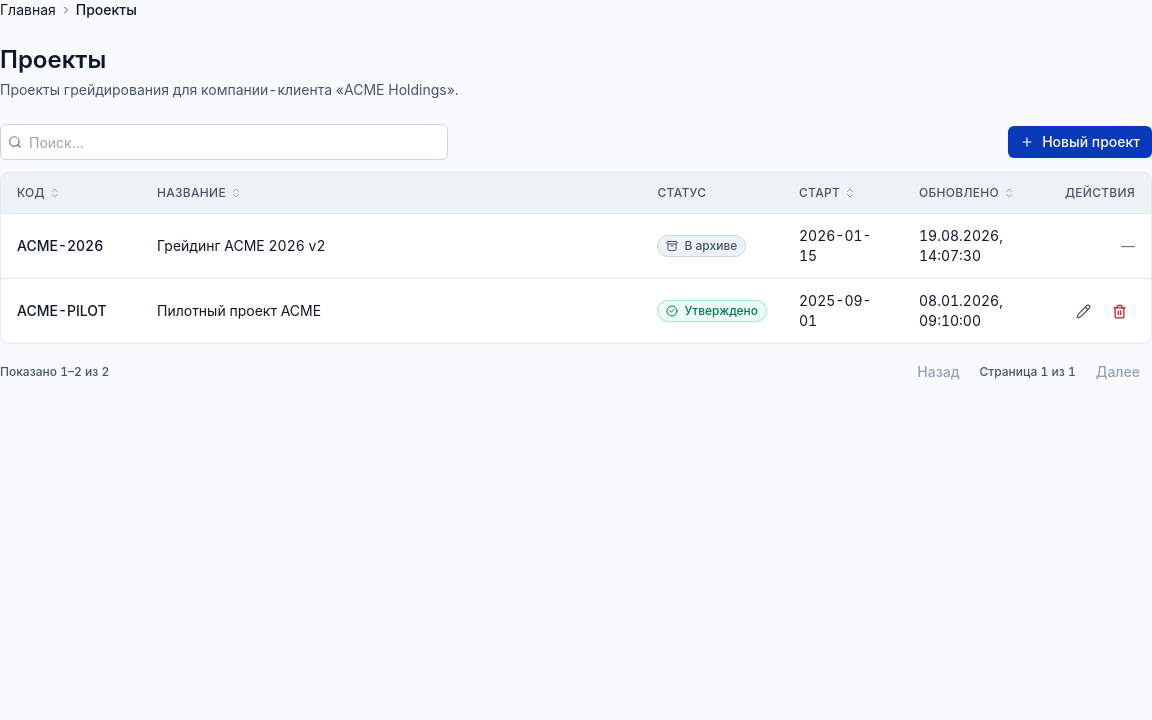
Scenario: <ProjectListPage /> CRUD › surfaces PROJECT_CODE_TAKEN when creating with a duplicate code
Check: the text "ACME-2026" is shown, box [17, 237, 103, 254]
Click the button with test id "new-project-button".
click(1080, 142)  # box [1008, 126, 1151, 158]
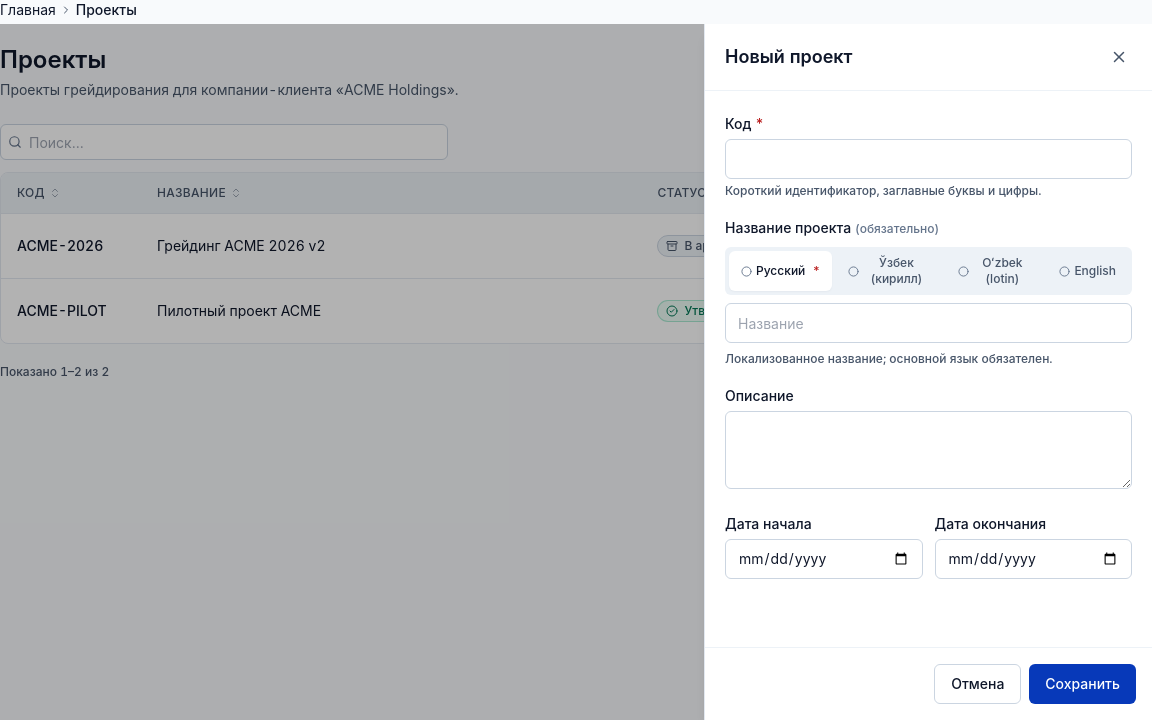
Check: the field with test id "project-code" is enabled
Type "ACME-PILOT" into the field with test id "project-code".
click(928, 159); type("ACME-PILOT")  # box [725, 139, 1132, 179]
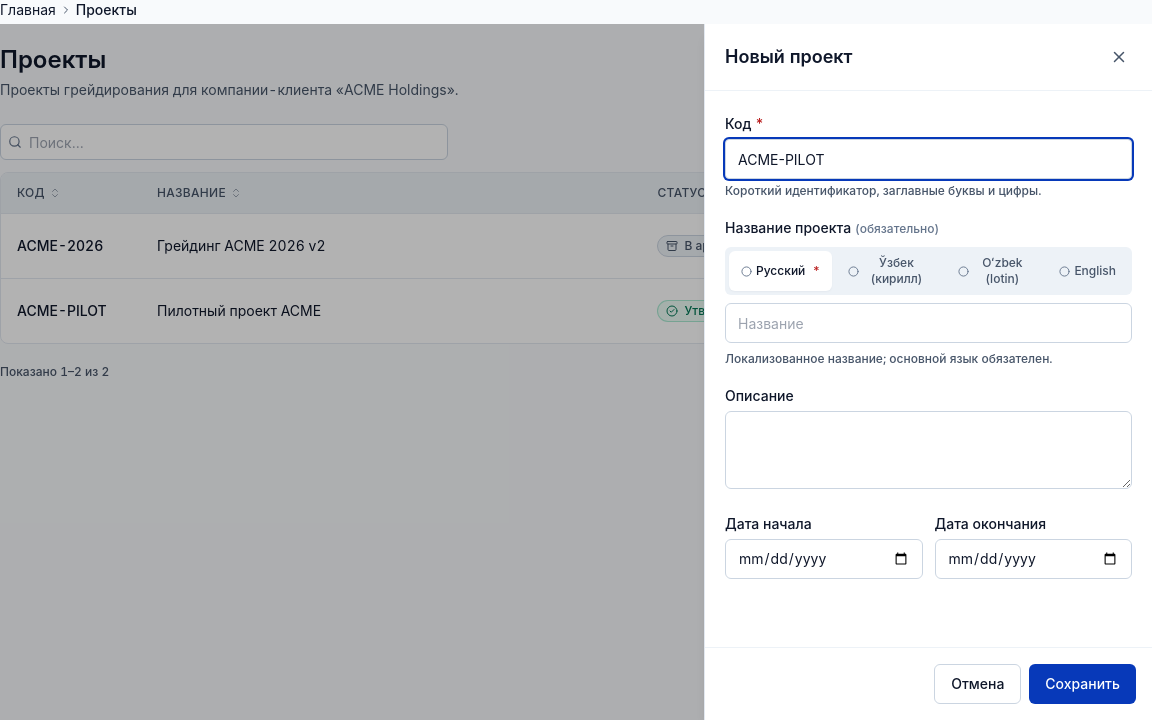
// Fill the required primary name (ru-RU tab is active first).
Type "Дубликат" into the field with test id "locale-input-ru-RU".
click(928, 323); type("Дубликат")  # box [725, 303, 1132, 343]
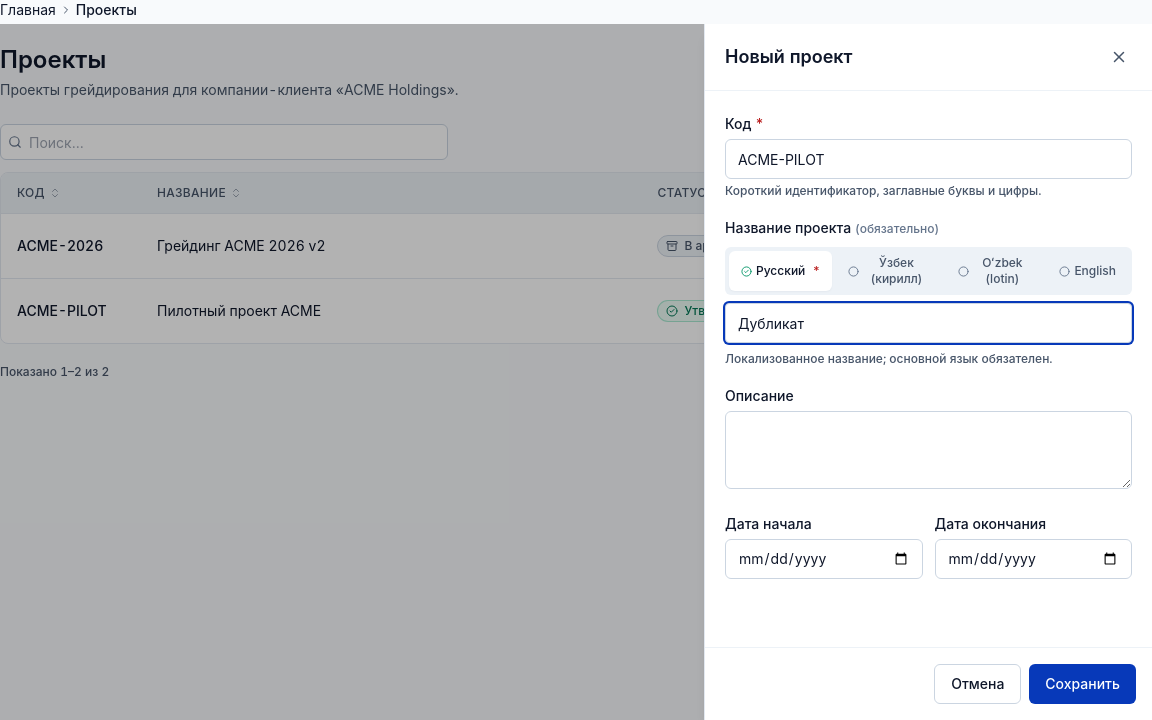
Click the button "Сохранить".
click(1083, 684)  # box [1029, 664, 1136, 704]
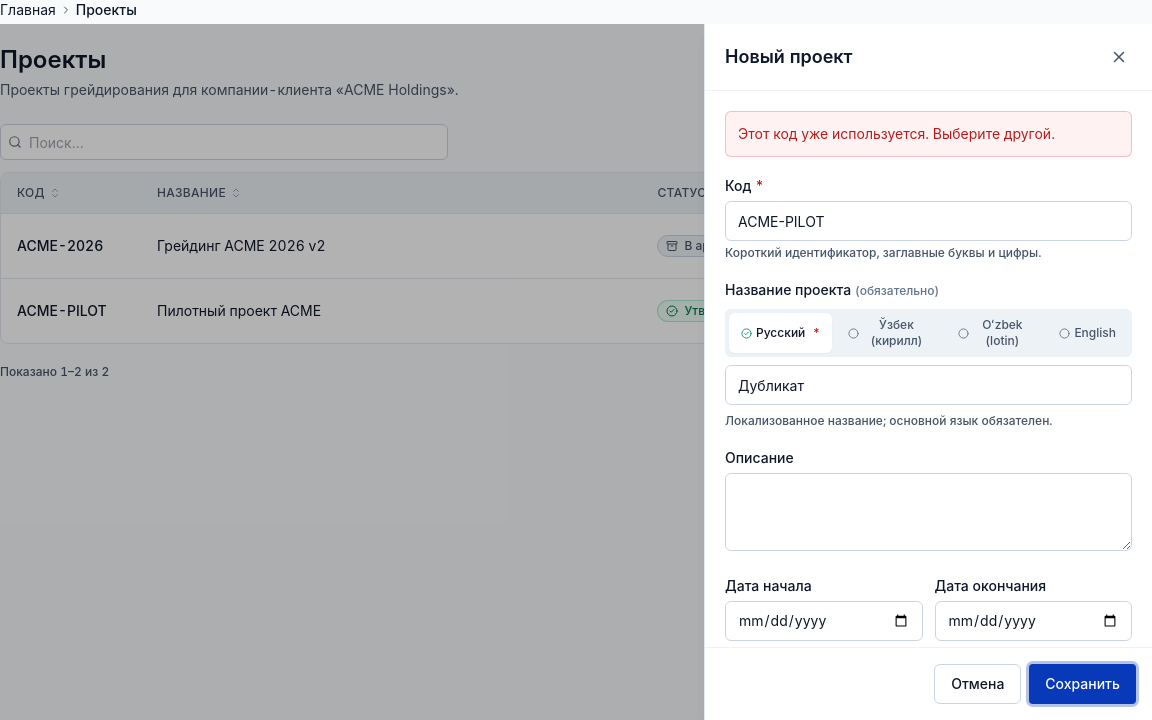
Check: the message with test id "project-form-error" reads "Этот код уже используется. Выберите другой.", box [738, 125, 1055, 142]
